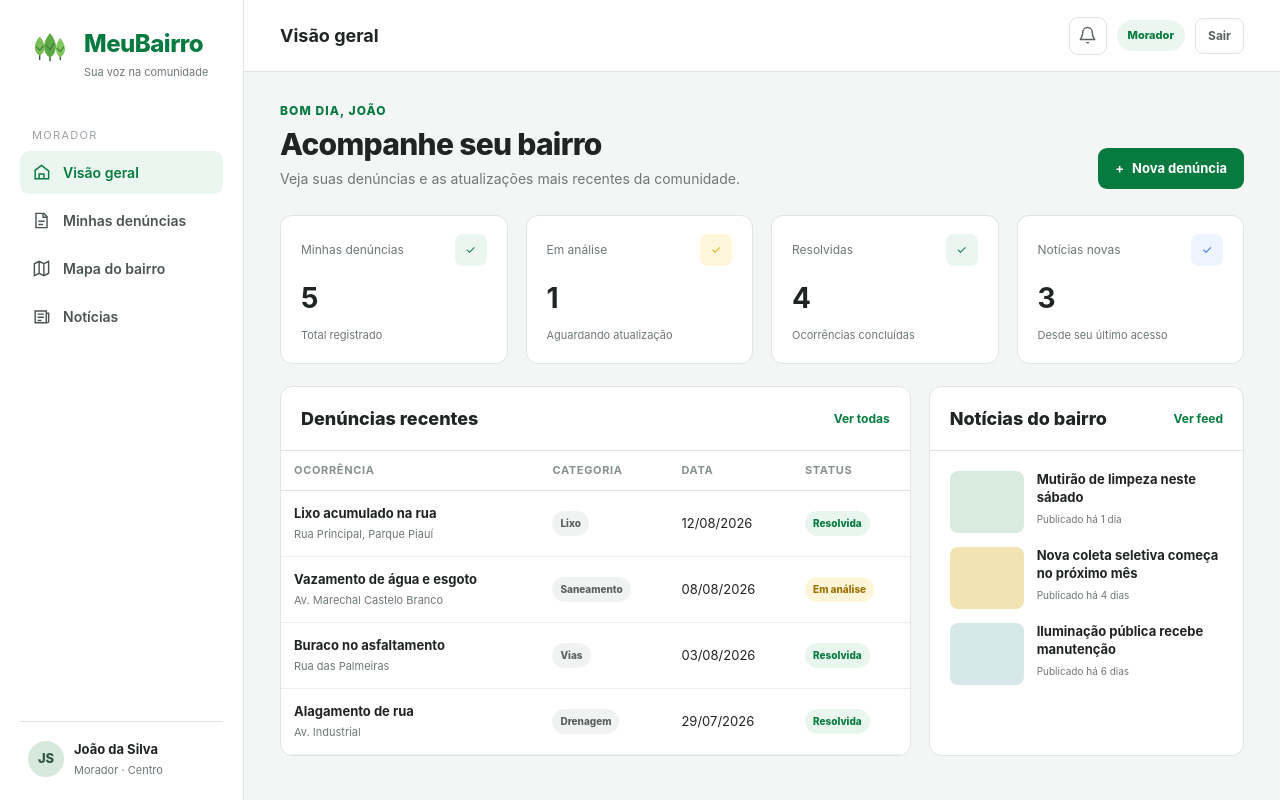
Scenario: MeuBairro routes › returns to the public login when the resident signs out
The image size is (1280, 800).
Click the button "Sair" at (1220, 36), box [1195,18,1244,54]
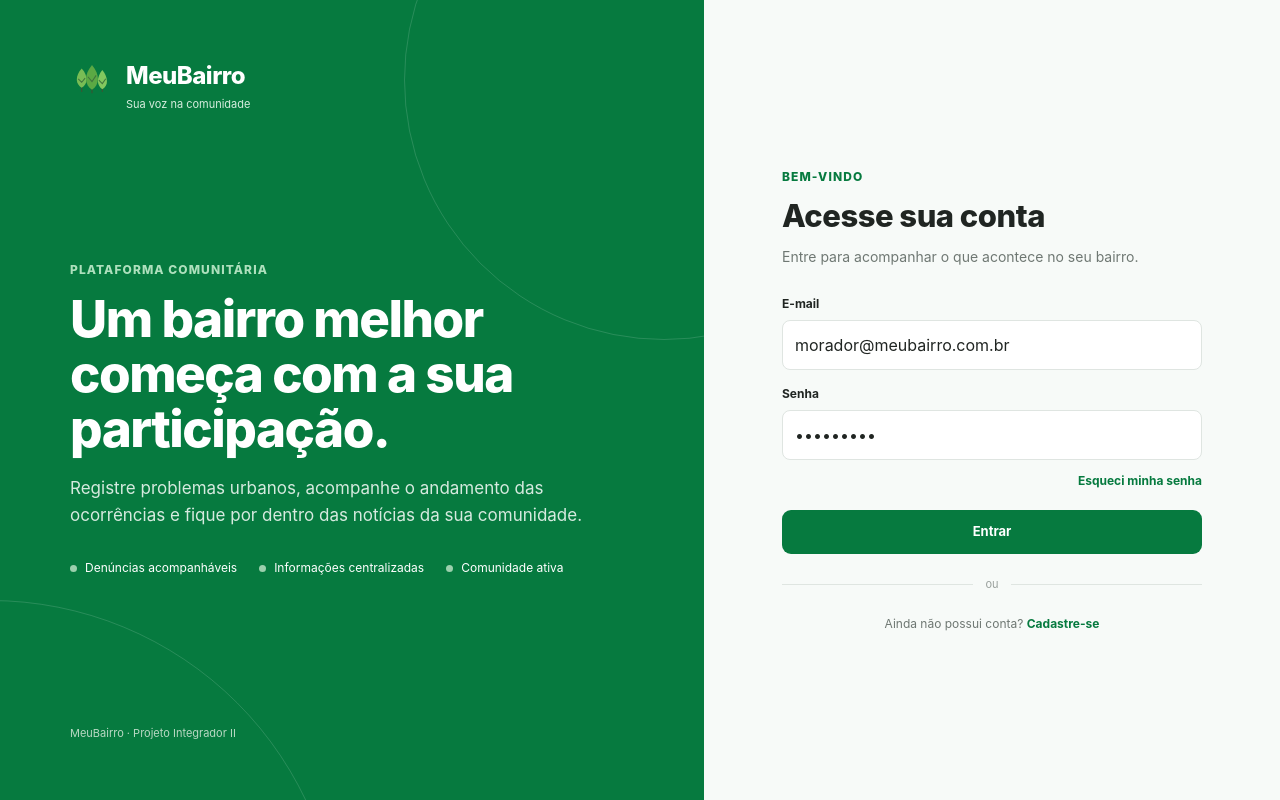
Result: the heading "Acesse sua conta" is shown at [782,196,1045,234]
